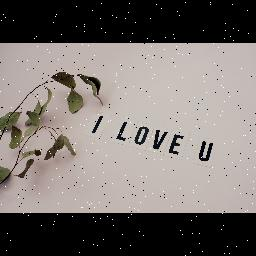e: (168, 130, 184, 158)
i: (92, 110, 106, 140)
l: (116, 118, 128, 144)
o: (132, 122, 150, 146)
u: (198, 136, 214, 168)
v: (152, 127, 168, 151)
